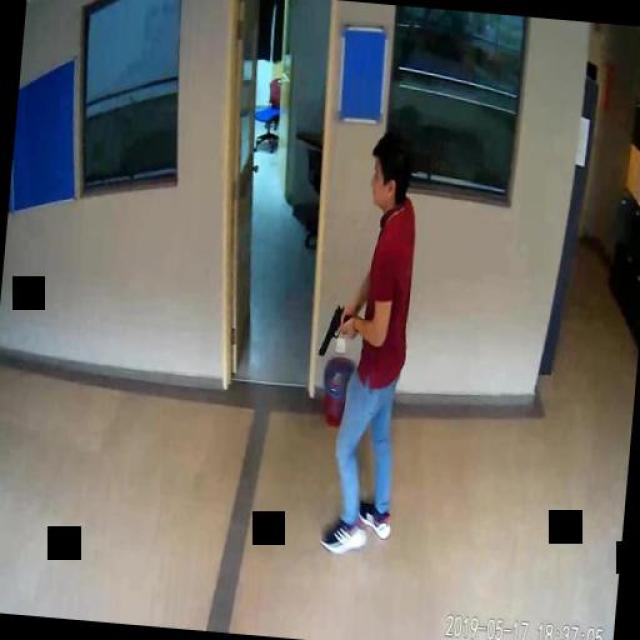gun: (318, 302, 352, 356)
